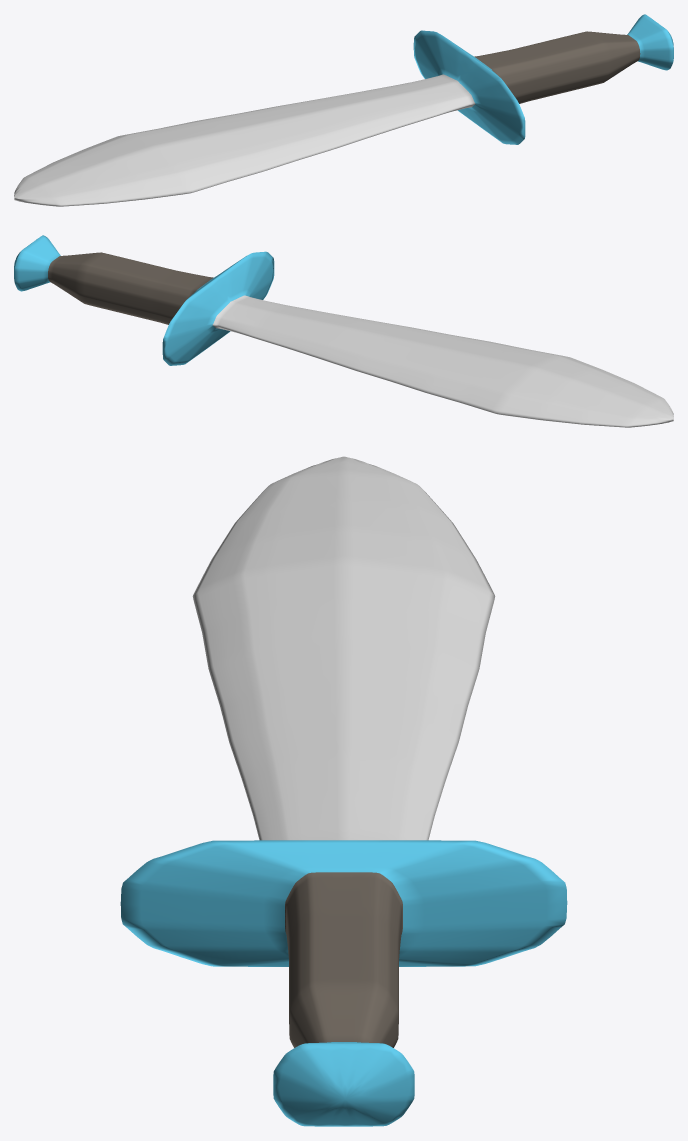
Rendered from sword.fbx.
3 views of the same model, one above another, from view 1: azimuth 30°, elevation 25°; view 2: azimuth 150°, elevation 25°; view 3: azimuth 270°, elevation 25° (orthographic). The views are drawn at different scales.
Parts seen in each view (by area): view 1: pCube1; view 2: pCube1; view 3: pCube1.
Part boxes in pixels (x1,y1,x2,y2): pCube1: (14,14,673,206); pCube1: (14,235,673,427); pCube1: (120,456,567,1126).
Bounding box in the file's own units: 26.26 × 2.43 × 7.74.
